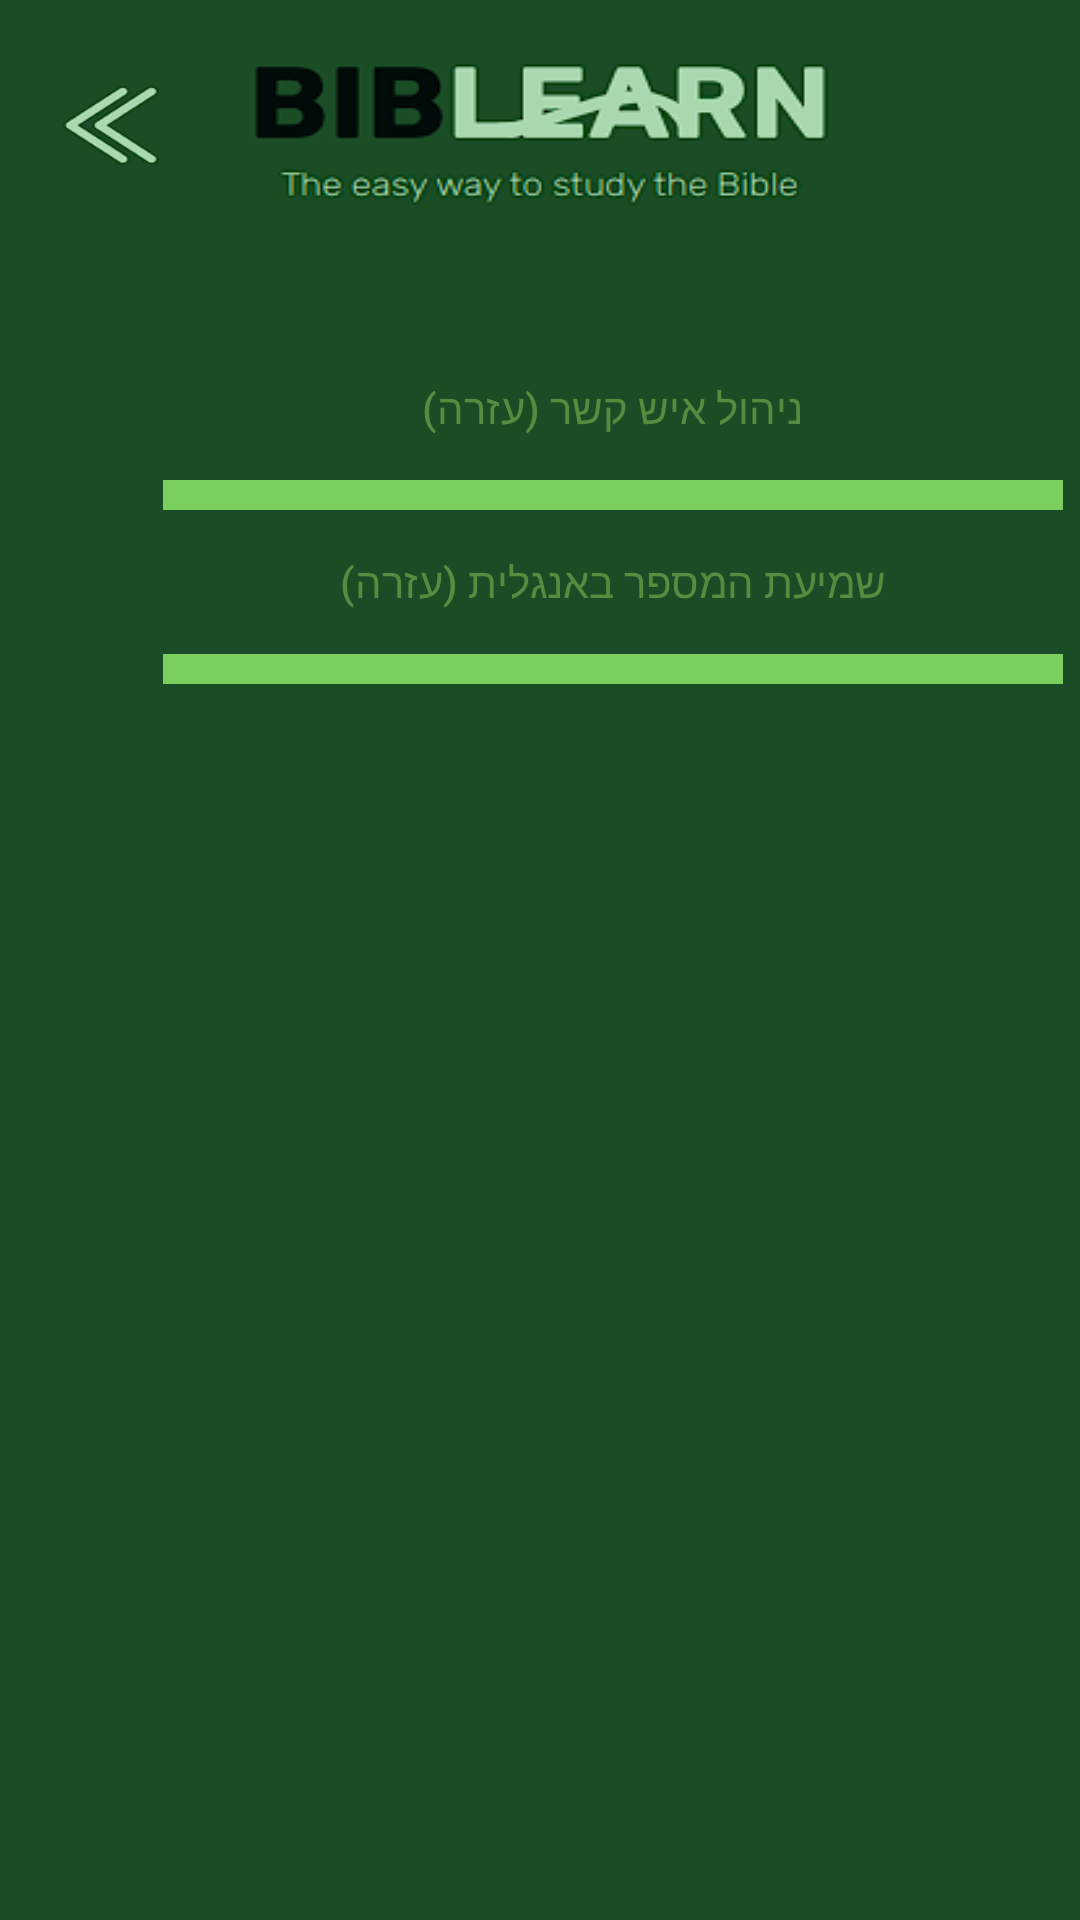

Where icons sit on this 1080px×1920px app screen, as (x1, y1, x2, y2):
backgb: (65, 88, 158, 164)
